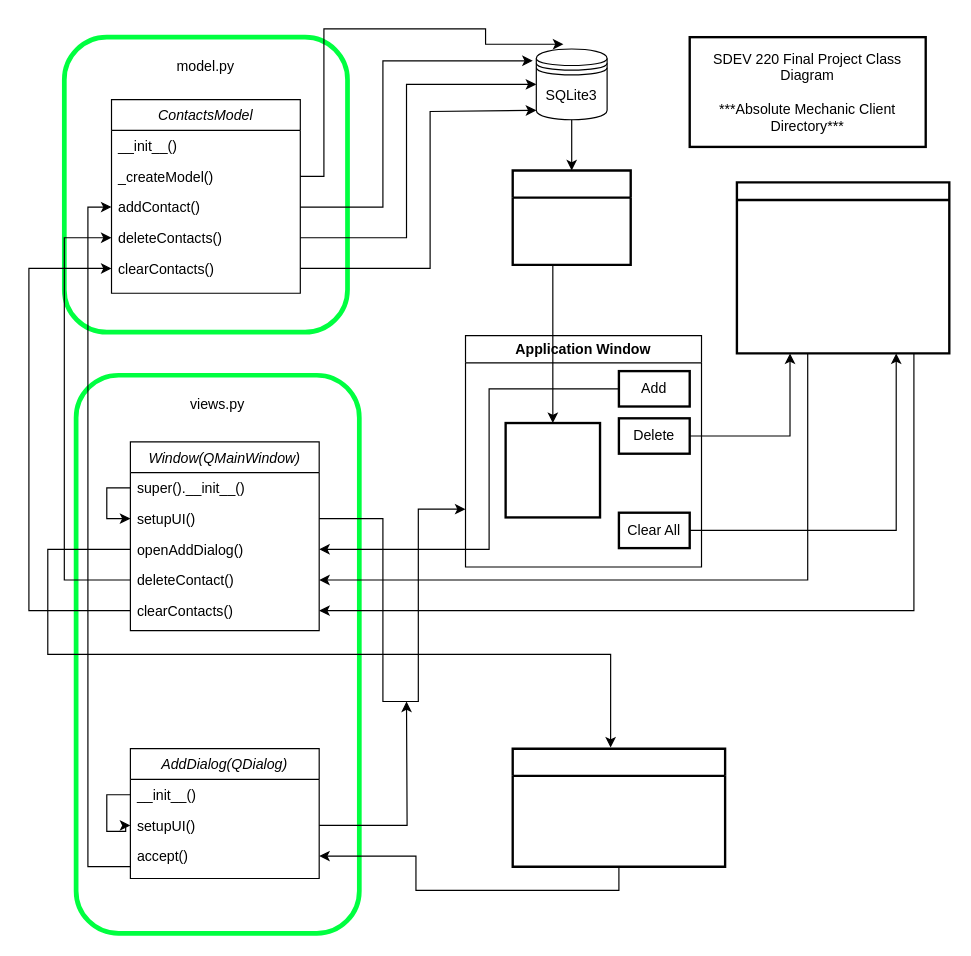
Some shapes in this 971 by 956 pixel diagram are drawn without their labels. Each missing label, with the centre of its shape:
Add Contacts Dialog: the point at 618,807
Delete/Clear Dialog: the point at 842,267
PyQt5 Model: the point at 571,217
View Table: the point at 552,469
